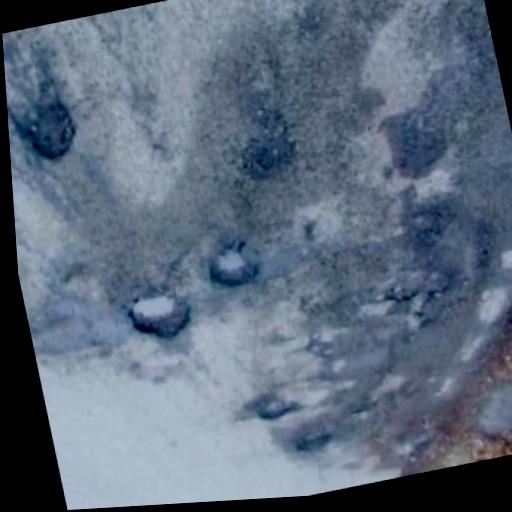pothole: (28, 84, 78, 158), (128, 284, 191, 339), (381, 270, 450, 311), (213, 241, 260, 285), (252, 396, 301, 421)
